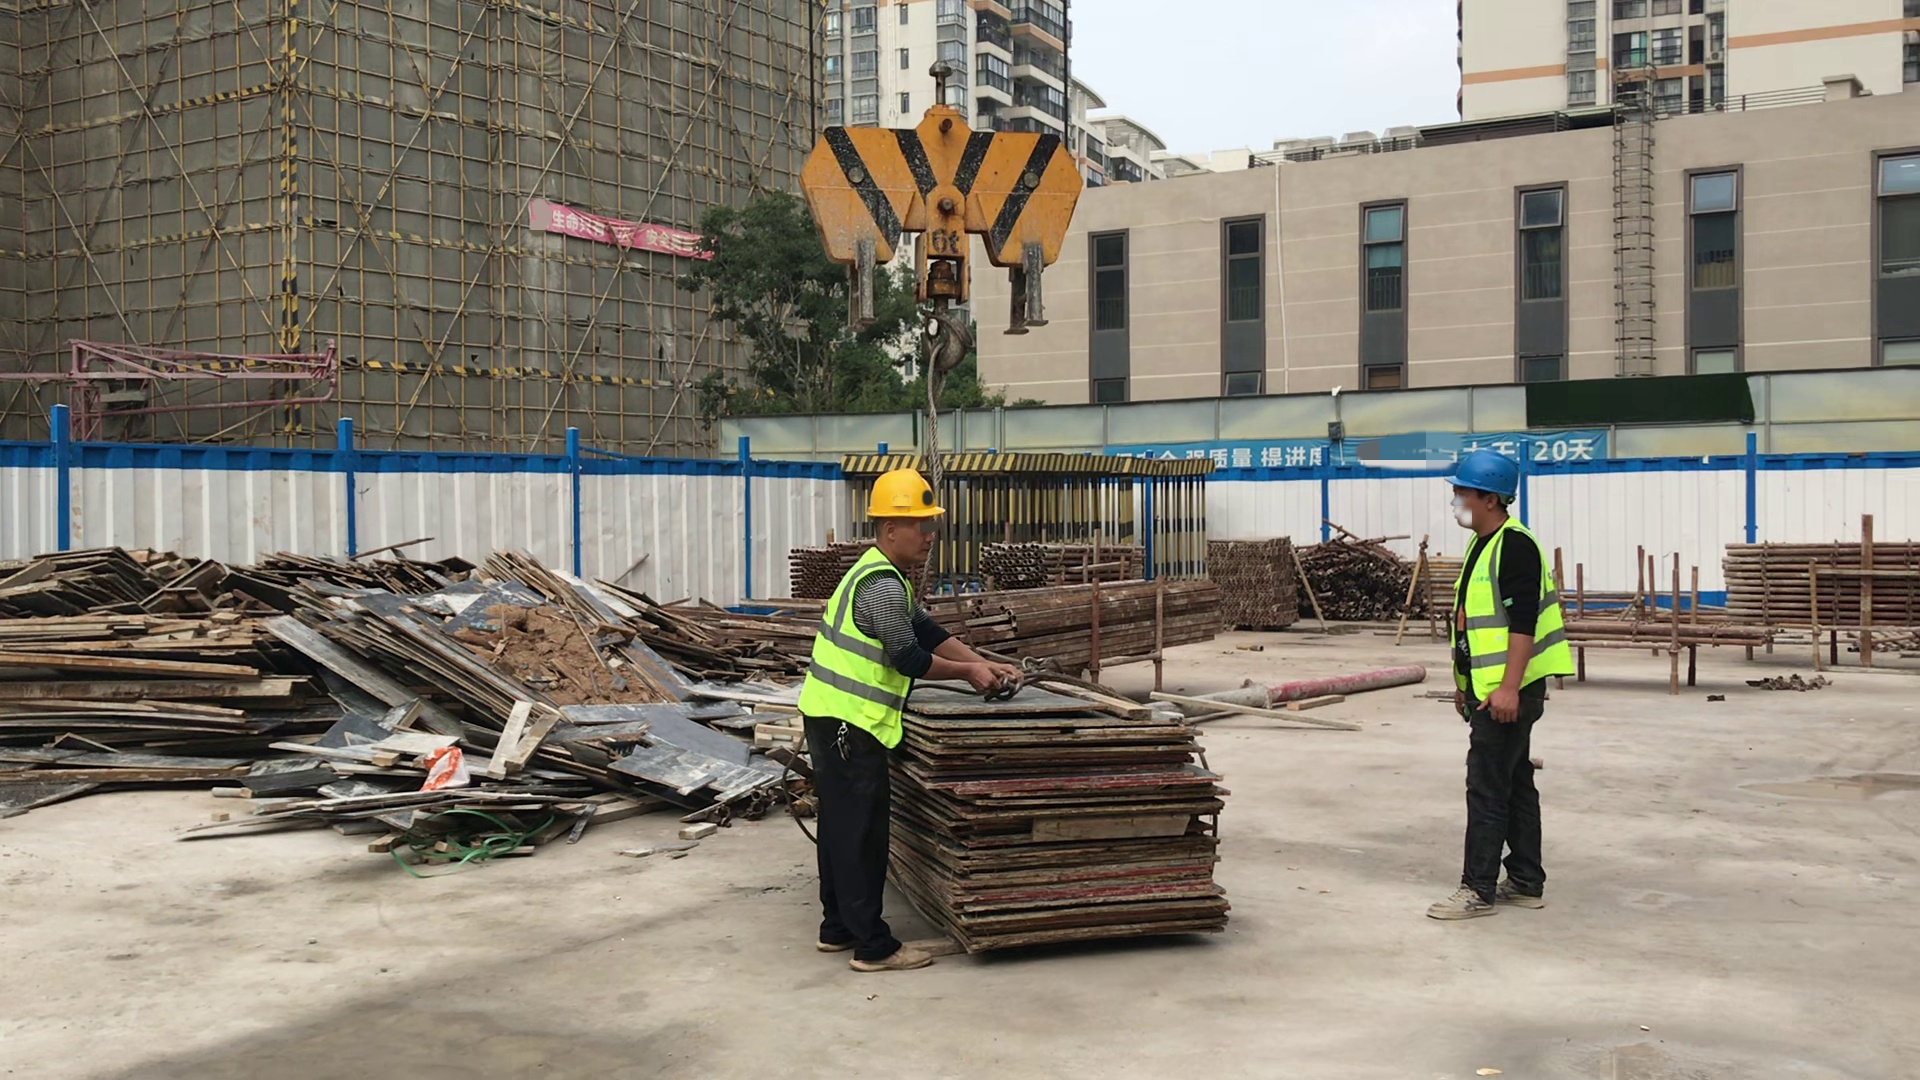board: (913, 701, 1232, 956)
helmet: (867, 468, 941, 523), (1445, 451, 1521, 503)
hook: (785, 105, 1091, 377)
person: (799, 468, 1019, 974), (1437, 445, 1574, 934)
scaffold: (1724, 544, 1915, 631), (987, 538, 1139, 587), (1209, 539, 1298, 622), (794, 538, 850, 594)
slogan: (1107, 445, 1604, 472), (517, 193, 711, 260)
vest: (1451, 518, 1573, 706), (806, 545, 912, 752)
